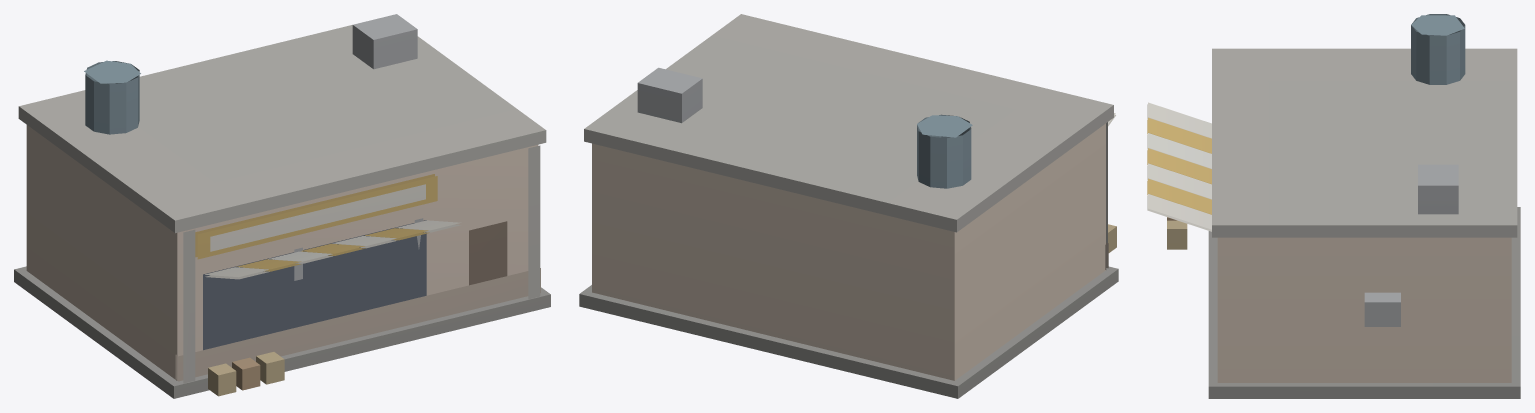
File: sv_shop_c.lod.glb
3 renders of one model, left to right at view 1: azimuth 30°, elevation 25°; view 2: azimuth 150°, elevation 25°; view 3: azimuth 270°, elevation 25°, orthographic. The views are drawn at different scales.
Parts seen in each view (by area): view 1: sv_shop_c; view 2: sv_shop_c; view 3: sv_shop_c.
Boxes of the visible parts, x1=… form: sv_shop_c: x1=14, y1=14, x2=550, y2=398; sv_shop_c: x1=579, y1=14, x2=1118, y2=398; sv_shop_c: x1=1147, y1=14, x2=1520, y2=398.
Bounding box in the file's own units: 9.7 × 5.4 × 8.26.
